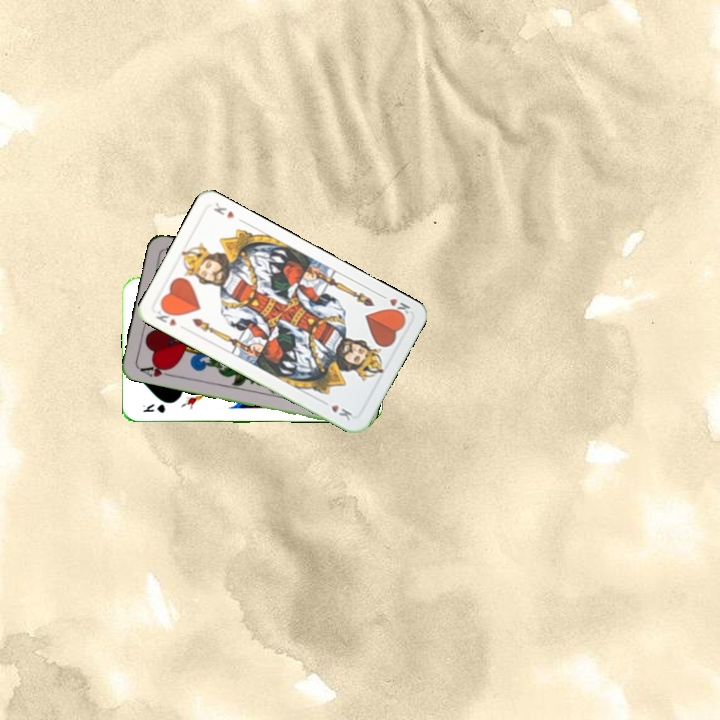GK: (139, 399, 168, 415)
HA: (136, 360, 176, 380)
HK: (376, 290, 413, 321), (151, 304, 180, 329)
